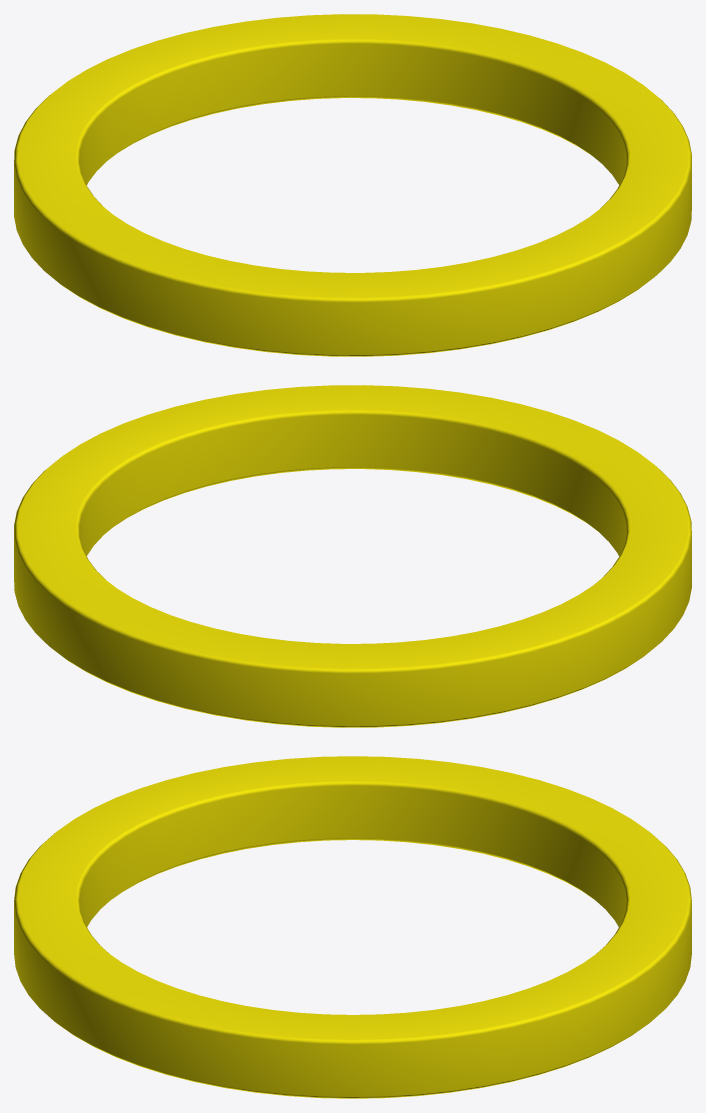
3 renders of one model, top to bottom at view 1: azimuth 30°, elevation 25°; view 2: azimuth 150°, elevation 25°; view 3: azimuth 270°, elevation 25°, orthographic.
Visible parts, largest first — view 1: seal_body; view 2: seal_body; view 3: seal_body.
Part boxes in pixels (box(x1,y1,x2,y2)): seal_body: box(14, 14, 691, 356); seal_body: box(14, 385, 691, 727); seal_body: box(14, 756, 691, 1098).
Bounding box in the file's own units: 0.0492 × 0.00476 × 0.0492.
